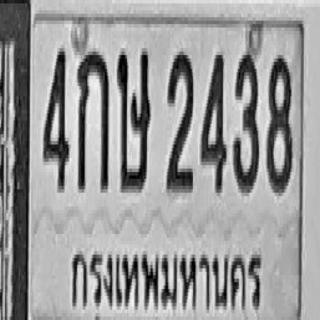A01: (76, 46, 108, 191)
A39: (117, 46, 150, 191)
N02: (166, 50, 194, 191)
N03: (233, 41, 259, 193)
N04: (42, 45, 69, 189), (200, 50, 226, 194)
N08: (266, 52, 292, 193)
P04: (67, 237, 265, 320)
